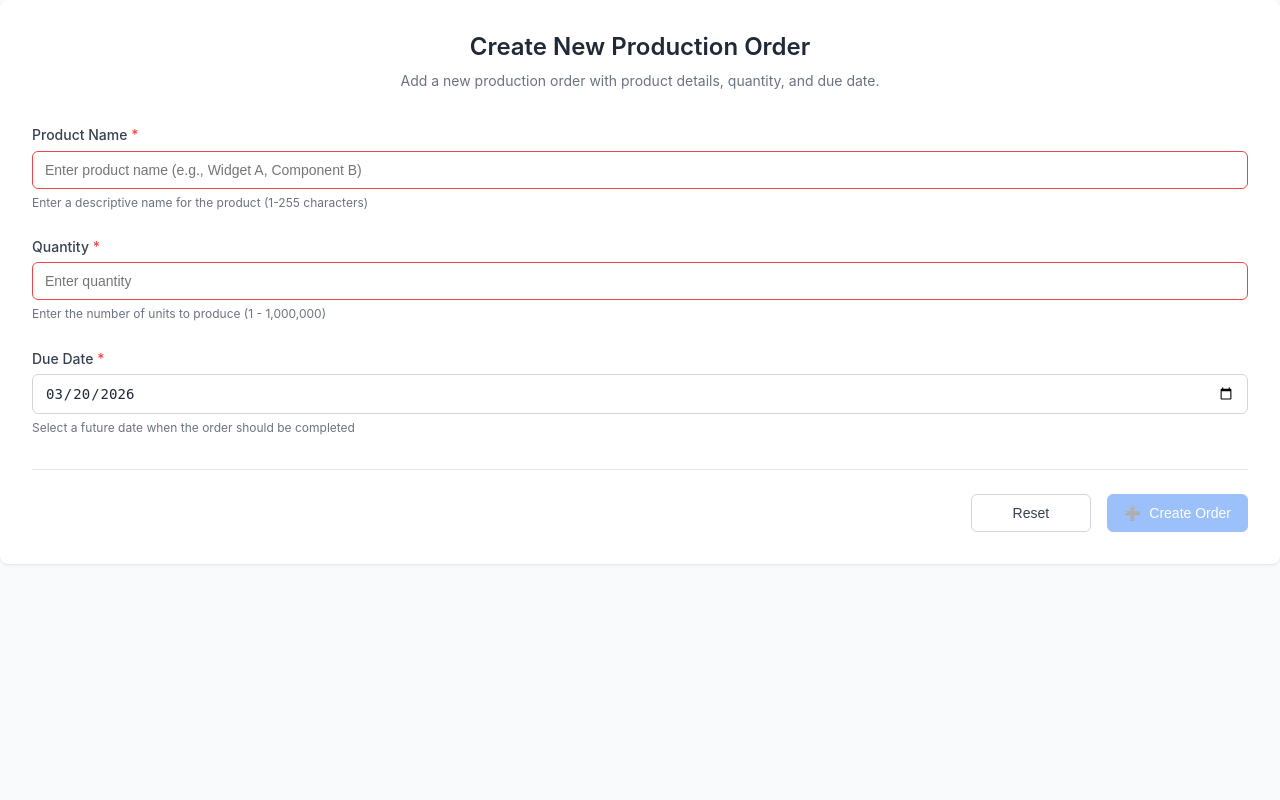
Test: OrderForm › validates due date is in the future
This screenshot has width=1280, height=800.
Note: Test past date
Type "2020-01-01" into the date field with id "due-date" at (640, 394), box x1=32 y1=374 x2=1248 y2=414
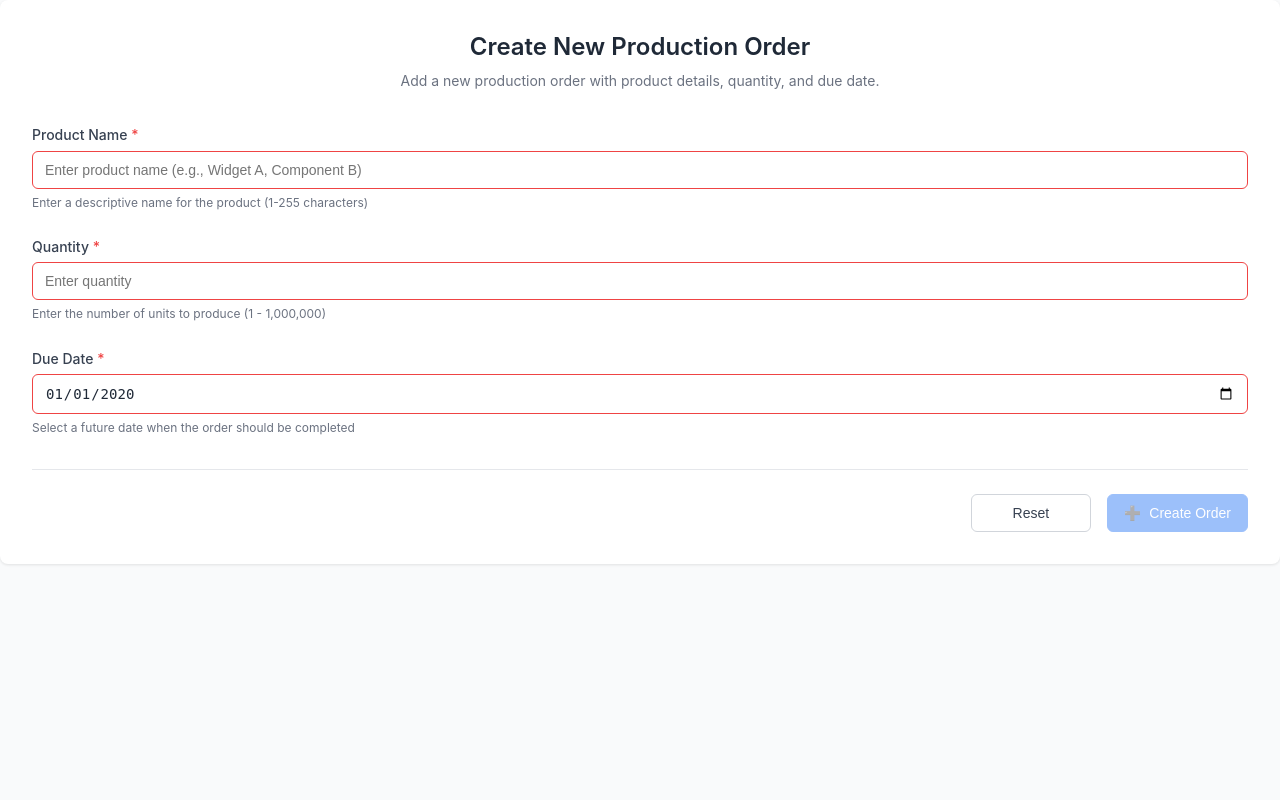
Leave the date field with id "due-date", box x1=32 y1=374 x2=1248 y2=414
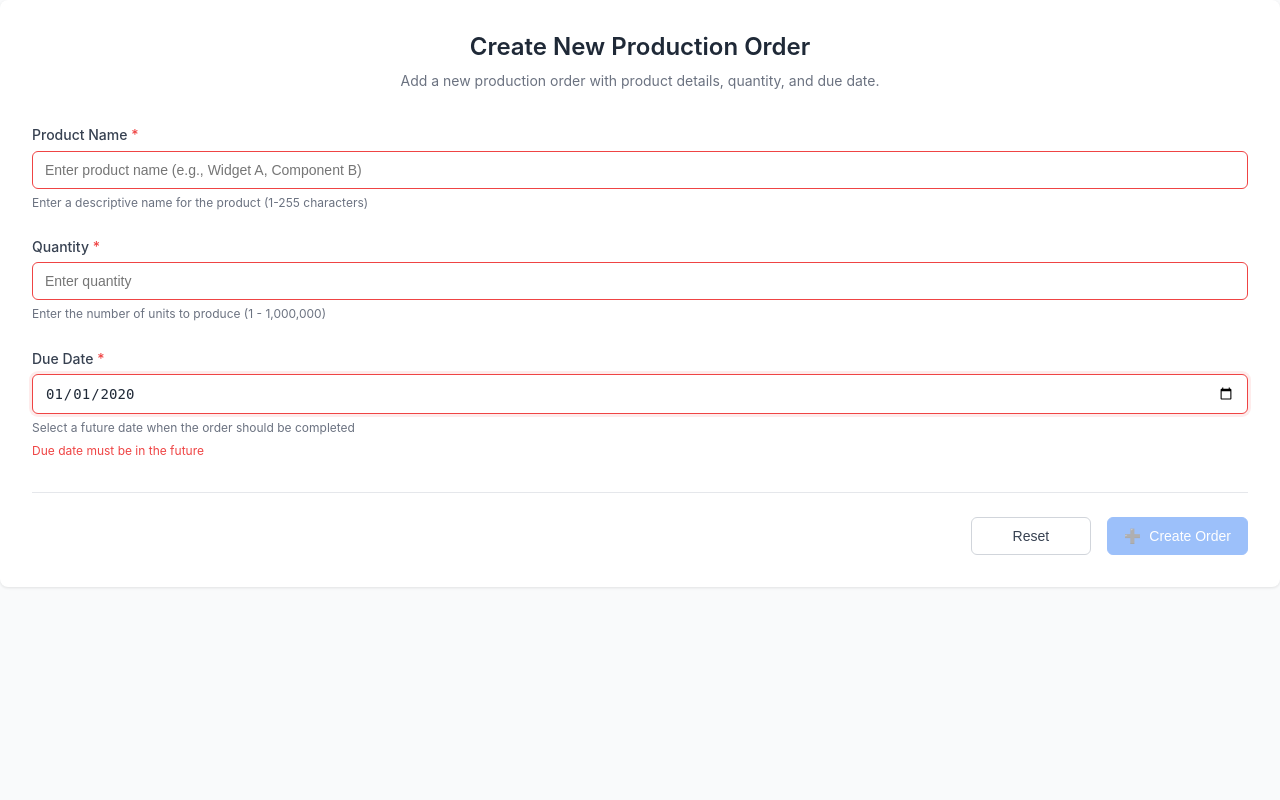
Expected: the message with id "due-date-error" reads "Due date must be in the future", x1=32 y1=443 x2=204 y2=458
